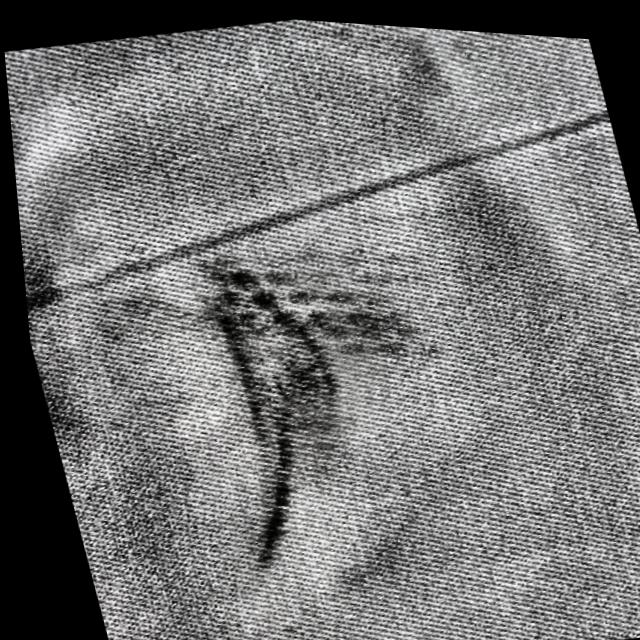Hole: (200, 264, 412, 559)
